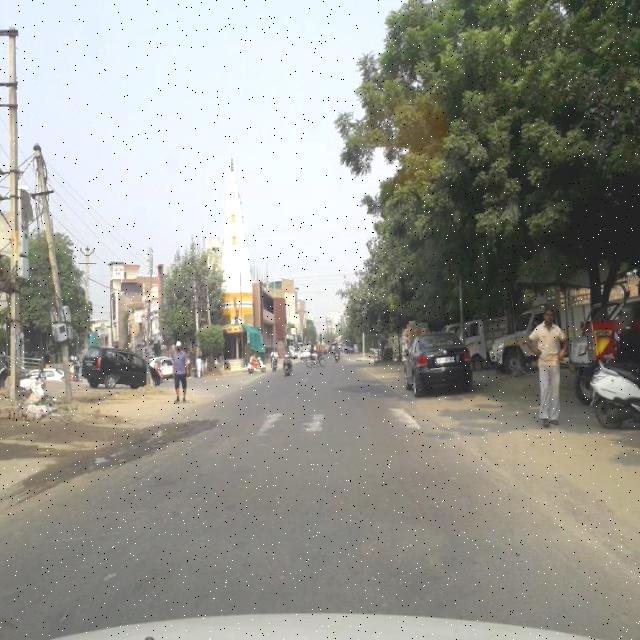D43: (212, 401, 423, 447)
